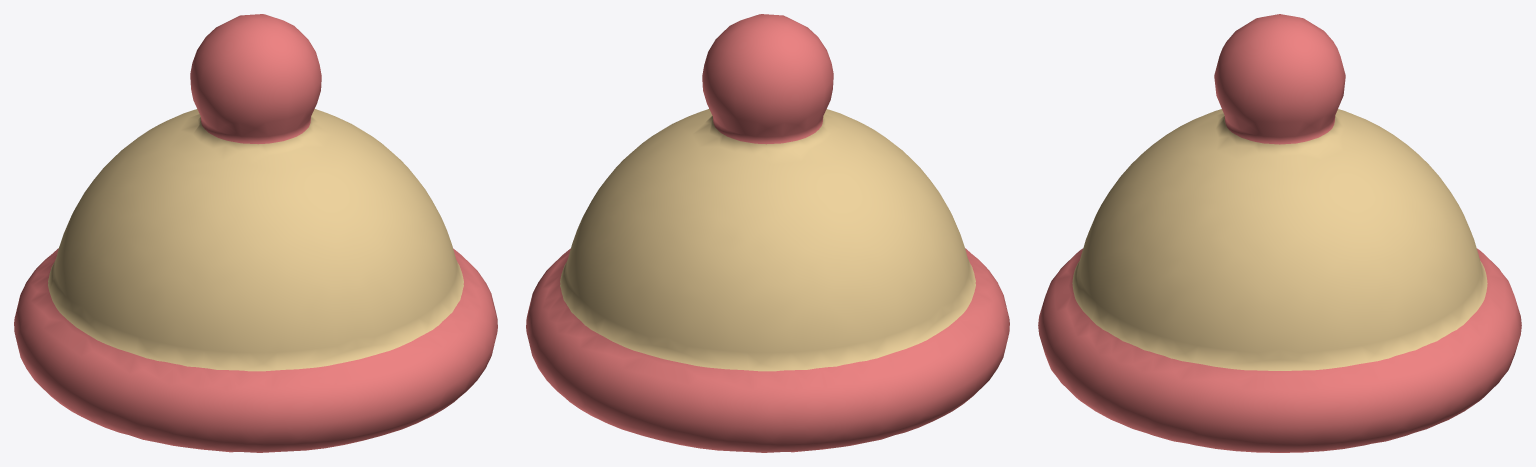
The model's file is acc_beanie.glb.
3 views of the same model, side by side, from view 1: azimuth 30°, elevation 25°; view 2: azimuth 150°, elevation 25°; view 3: azimuth 270°, elevation 25° (orthographic).
Visible parts, largest first — view 1: body; view 2: body; view 3: body.
Part boxes in pixels (<box>): body: <box>14,14,497,452</box>; body: <box>526,14,1009,452</box>; body: <box>1038,14,1521,452</box>.
Size of the model in its own units: 0.66 by 0.52 by 0.66.
